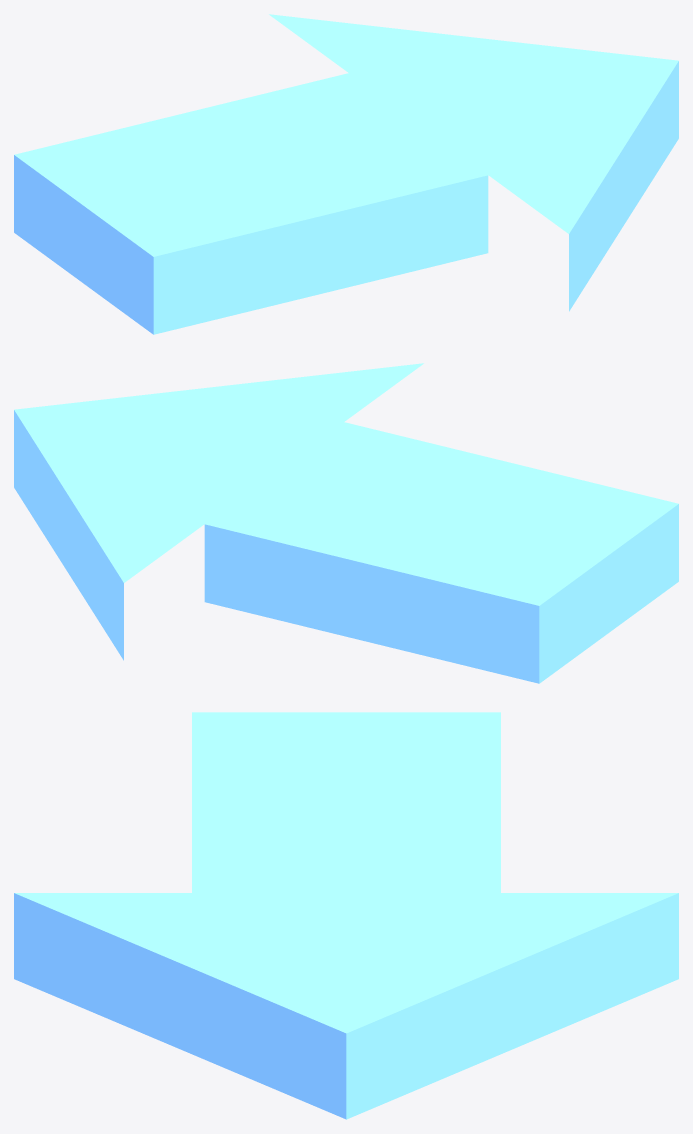
The model's file is pad_blue.glb.
The picture shows the model from 3 angles, top to bottom: view 1: azimuth 30°, elevation 25°; view 2: azimuth 150°, elevation 25°; view 3: azimuth 270°, elevation 25°; orthographic projection. The views are drawn at different scales.
Visible parts, largest first — view 1: pad_blue; view 2: pad_blue; view 3: pad_blue.
Part boxes in pixels (bbox=[...]): pad_blue: bbox=[14, 14, 678, 334]; pad_blue: bbox=[14, 363, 678, 683]; pad_blue: bbox=[14, 712, 678, 1119].
Bounding box in the file's own units: 0.032 × 0.004 × 0.028.
